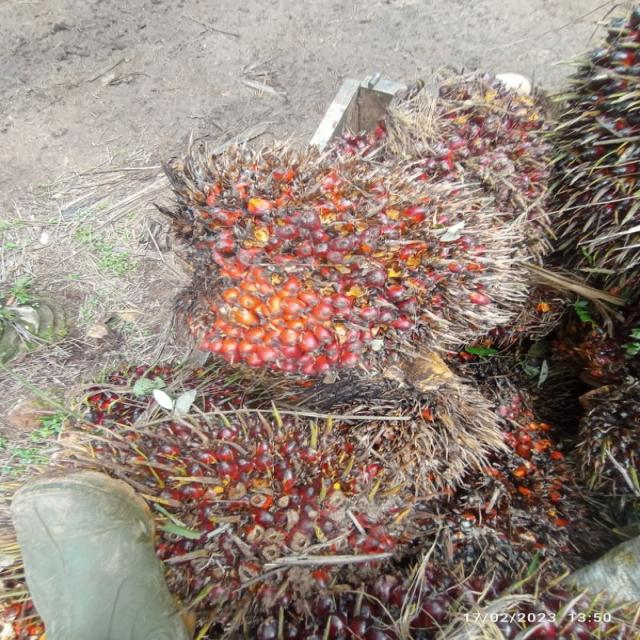fraksi 3: (138, 121, 532, 397)
